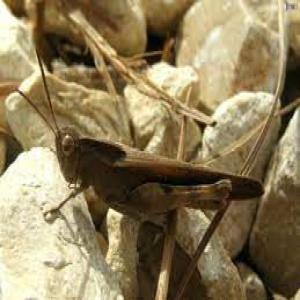locust: (38, 106, 284, 232)
